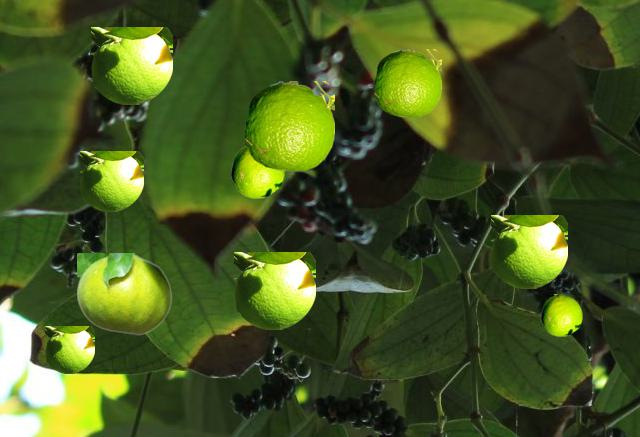dalandan: (245, 81, 333, 170), (77, 253, 171, 334), (234, 252, 314, 328), (91, 27, 171, 103), (491, 215, 566, 287), (374, 49, 440, 116), (80, 151, 142, 210), (231, 143, 283, 197), (45, 326, 93, 372), (541, 294, 581, 335)
